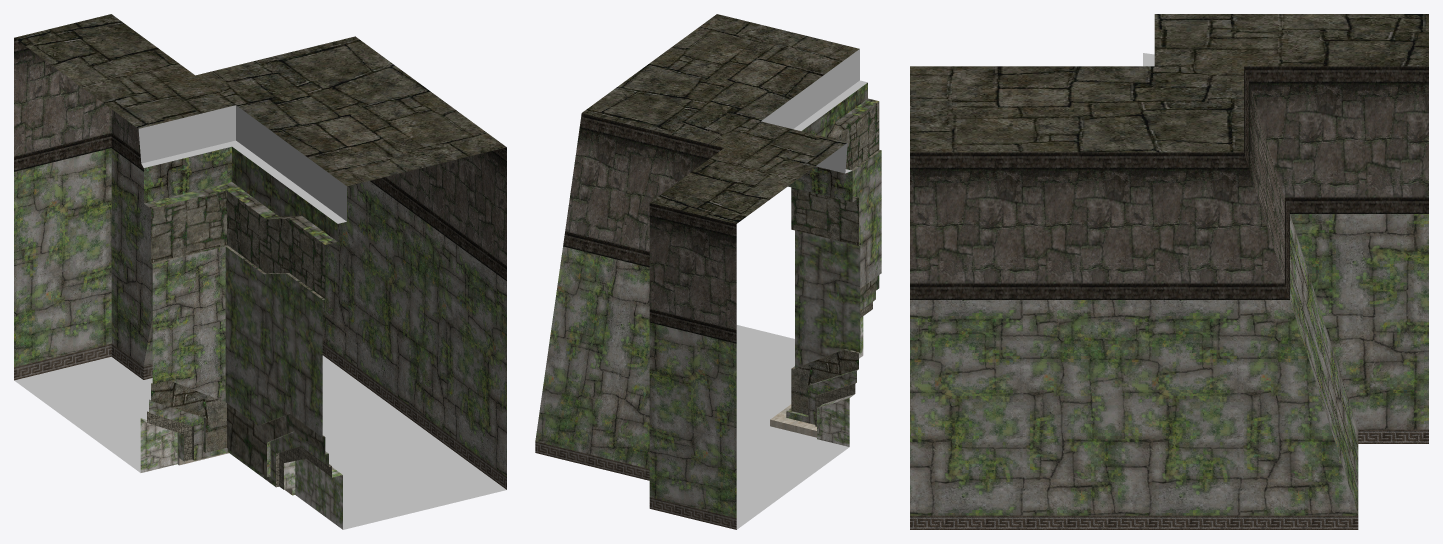
Rendered from thm_yavn_palace_woolamander_r5_altar_hallway2_mesh.fbx.
The picture shows the model from 3 angles, left to right: view 1: azimuth 30°, elevation 25°; view 2: azimuth 150°, elevation 25°; view 3: azimuth 270°, elevation 25°; orthographic projection. The views are drawn at different scales.
Visible parts, largest first — view 1: mesh_node; view 2: mesh_node; view 3: mesh_node.
Part boxes in pixels (x1,y1,x2,y2): mesh_node: (14, 14, 506, 529); mesh_node: (535, 14, 881, 529); mesh_node: (910, 14, 1428, 529).
Size of the model in its own units: 8.04 by 10.22 by 12.73.
